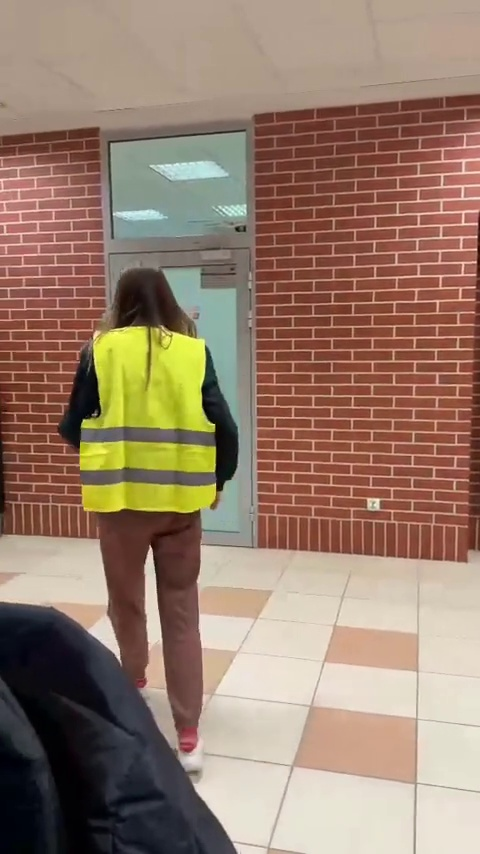vest: (49, 252, 243, 752)
